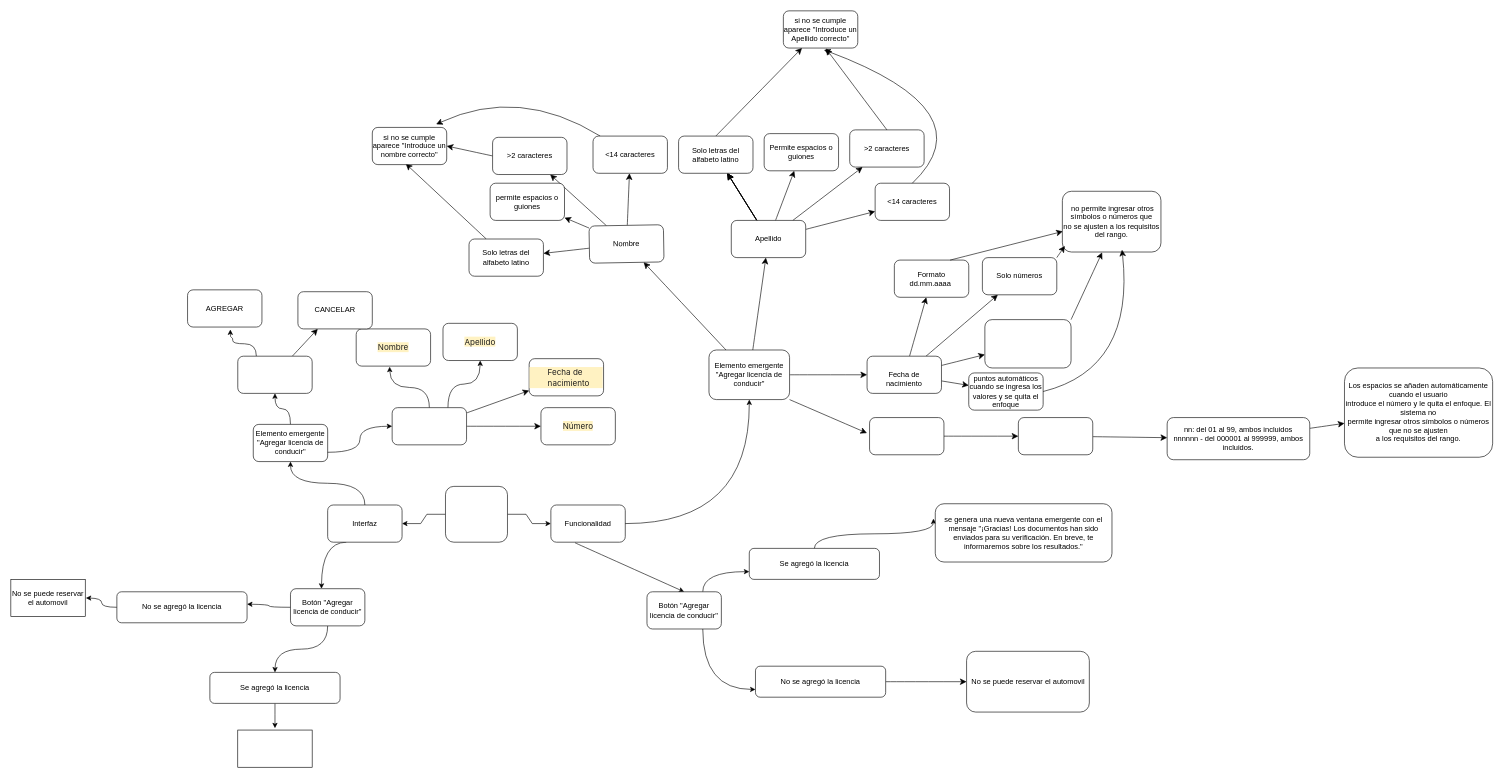
This 1504x778 diagram has some shape labels left out. Here are the shapes that lost their labels. From the top down, the centre of each, then its label:
(x=1027, y=343): "dd": del 01 al 31 "mm": del 01 al 12, "aaaa": del 1880 al 2006
(x=274, y=374): Botones
(x=429, y=426): Campos
(x=906, y=436): Número de licencia
(x=1055, y=436): Formato nn nn nnnnnn Solo números.
(x=476, y=514): Compartir un automóvil de Urban Routes: Agregar licencia de conducir
(x=274, y=748): Mensaje de Agradecimiento
